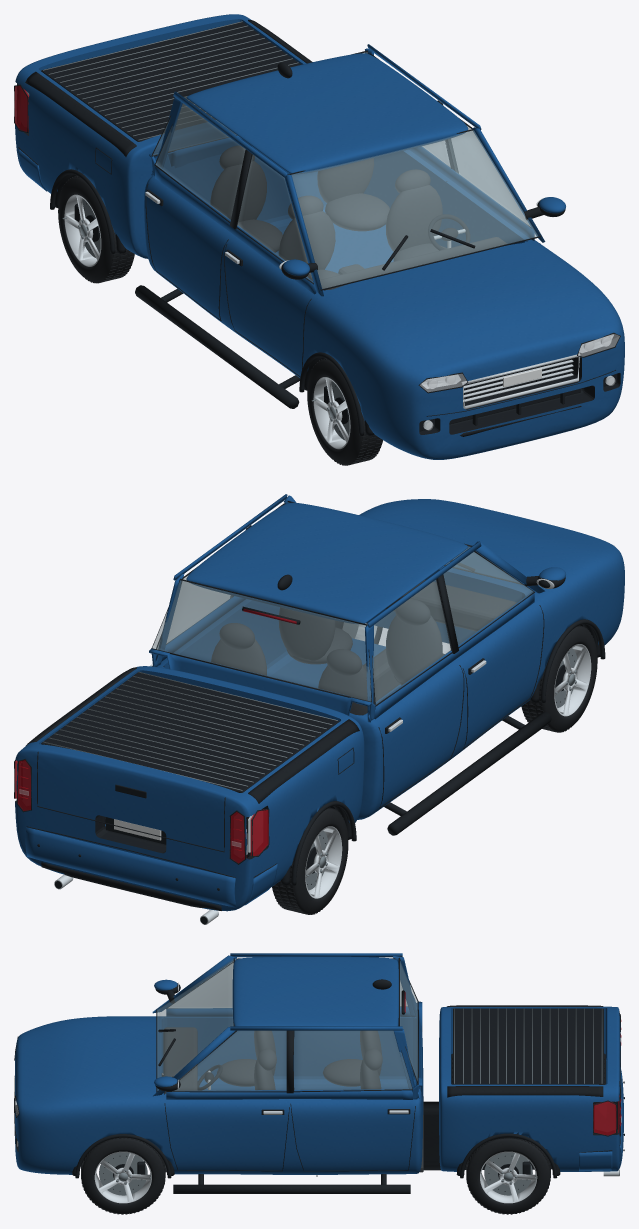
File: vehicle-pickup.glb
The picture shows the model from 3 angles, top to bottom: view 1: azimuth 30°, elevation 25°; view 2: azimuth 150°, elevation 25°; view 3: azimuth 270°, elevation 25°; orthographic projection. The views are drawn at different scales.
Visible parts, largest first — view 1: Body, WheelRearL, WindowFrontL, WheelFrontL; view 2: Body, WindowFrontL, WheelRearL, WheelFrontL; view 3: Body, WheelRearR, WheelFrontR, WindowFrontL.
Boxes of the visible parts, bbox=[...] form: Body: bbox=[14, 14, 624, 465]; WheelRearL: bbox=[58, 177, 134, 282]; WindowFrontL: bbox=[237, 154, 313, 282]; WheelFrontL: bbox=[307, 359, 382, 465]; Body: bbox=[14, 494, 624, 924]; WindowFrontL: bbox=[443, 552, 533, 645]; WheelRearL: bbox=[272, 808, 348, 914]; WheelFrontL: bbox=[521, 626, 597, 732]; Body: bbox=[14, 953, 624, 1214]; WheelRearR: bbox=[466, 1138, 550, 1213]; WheelFrontR: bbox=[81, 1137, 165, 1213]; WindowFrontL: bbox=[169, 963, 233, 1007].
Bounding box in the file's own units: 2.32 × 1.96 × 5.69.
10 materials, 10 textured.
